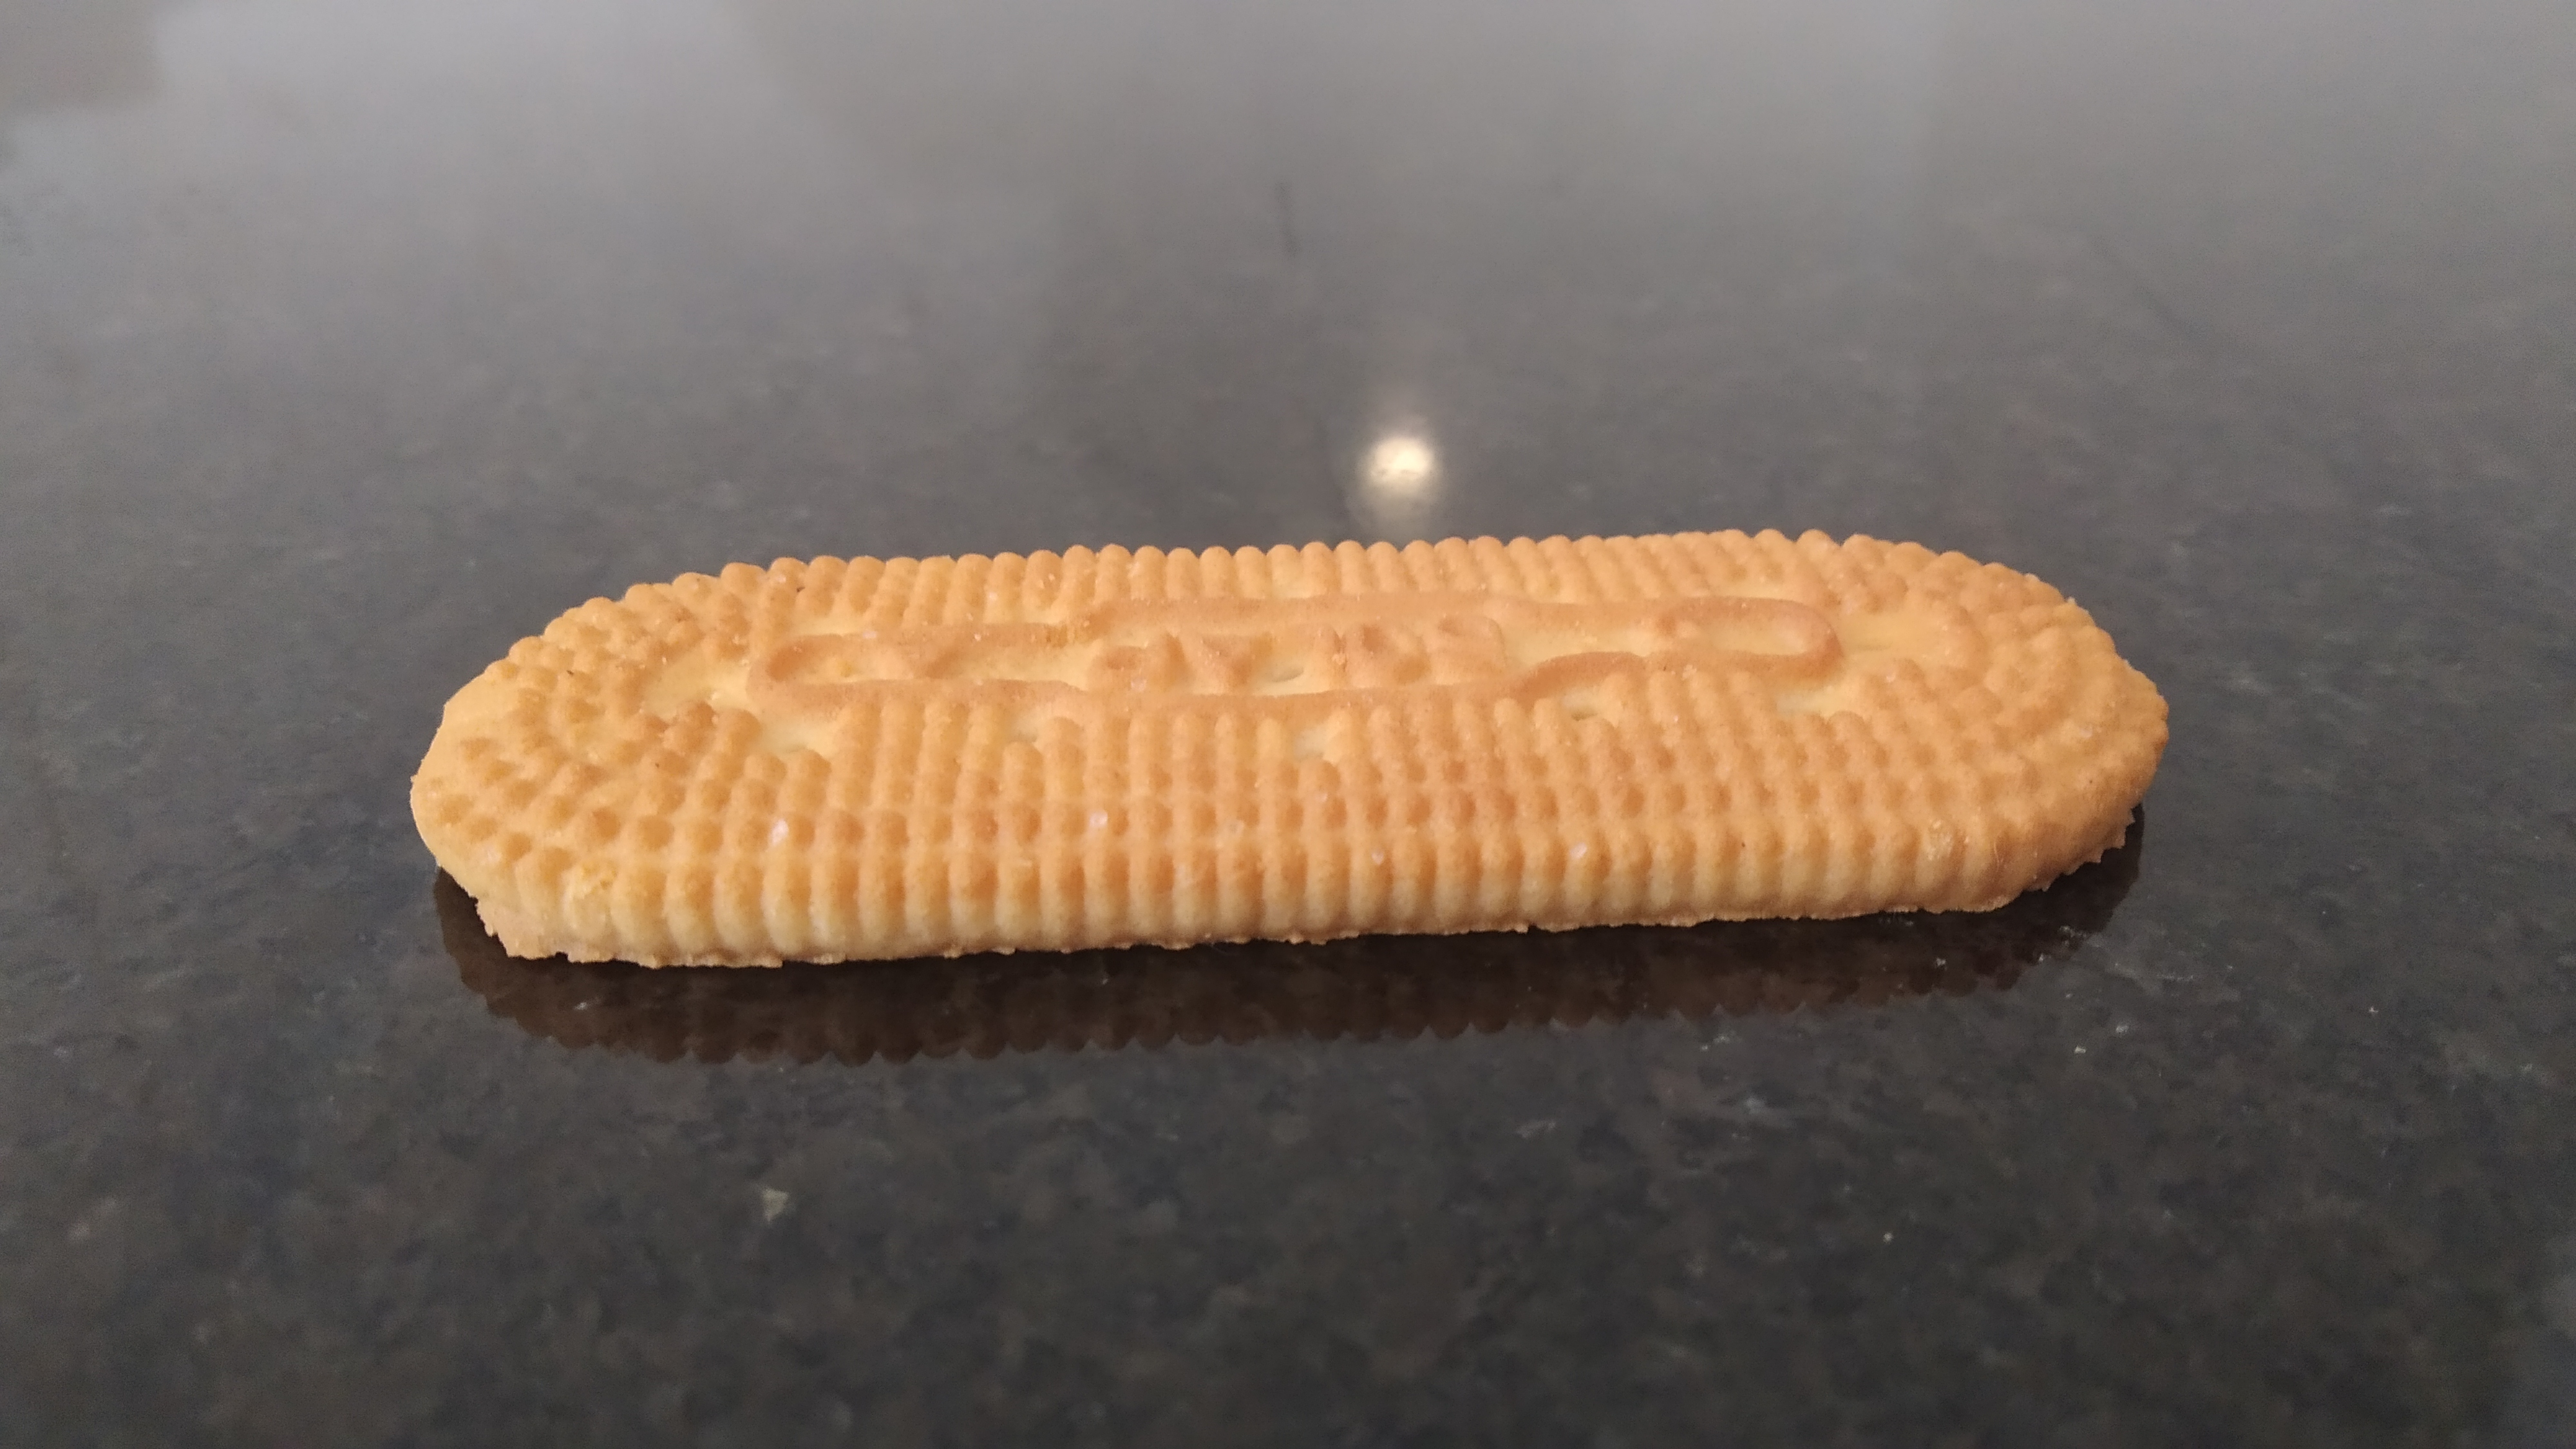solar: (412, 527, 2171, 971)
